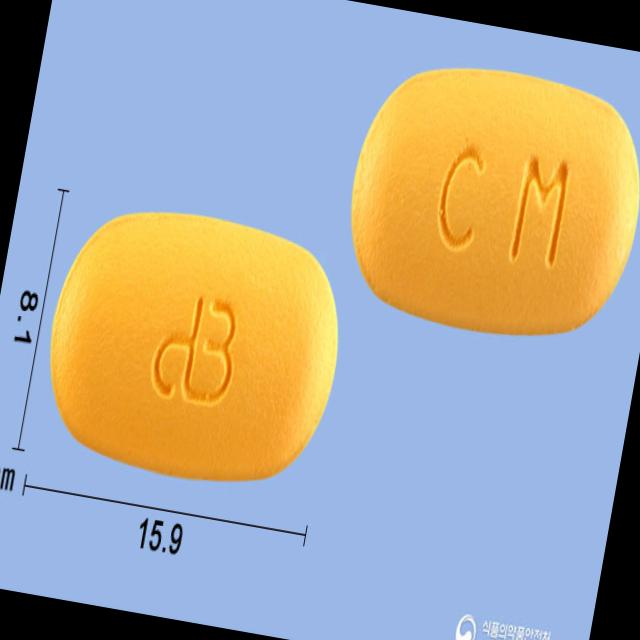Claridon: (26, 183, 361, 508), (327, 41, 640, 363)
